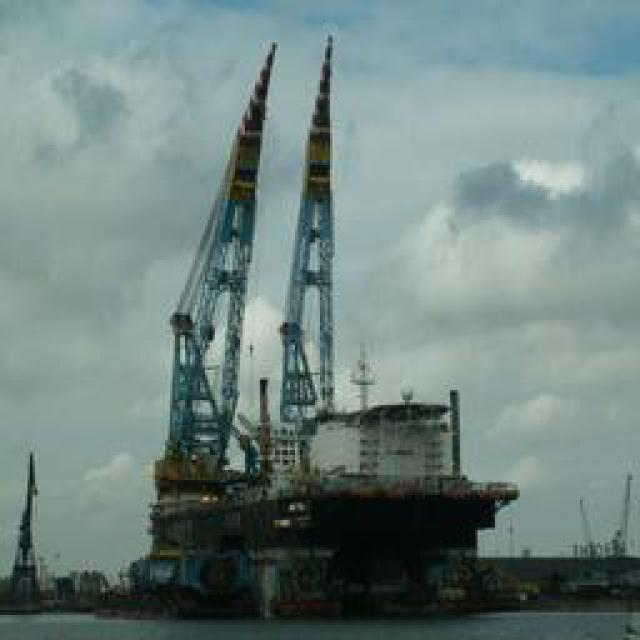Ship: (128, 27, 506, 620)
